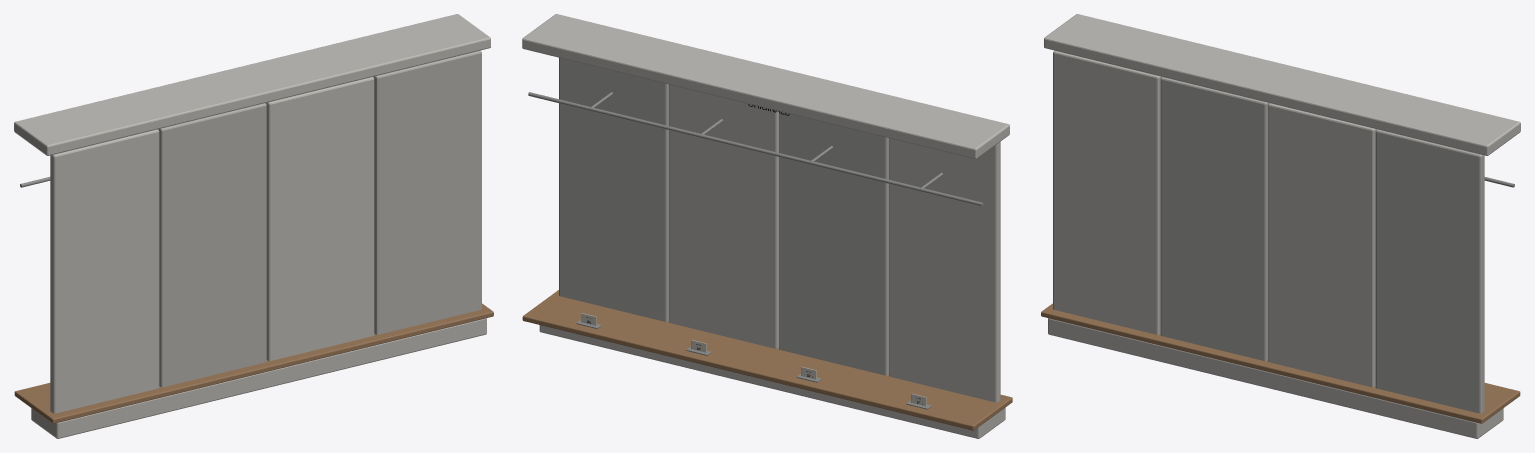
File: back.glb
The picture shows the model from 3 angles, left to right: view 1: azimuth 30°, elevation 25°; view 2: azimuth 150°, elevation 25°; view 3: azimuth 330°, elevation 25°; orthographic projection. The views are drawn at different scales.
Parts seen in each view (by area): view 1: back; view 2: back; view 3: back.
Boxes of the visible parts, x1,y1,x2,y2 form: back: (14, 14, 493, 438); back: (522, 14, 1012, 438); back: (1041, 14, 1520, 438).
Bounding box in the file's own units: 4.05 × 2.55 × 0.6101.
